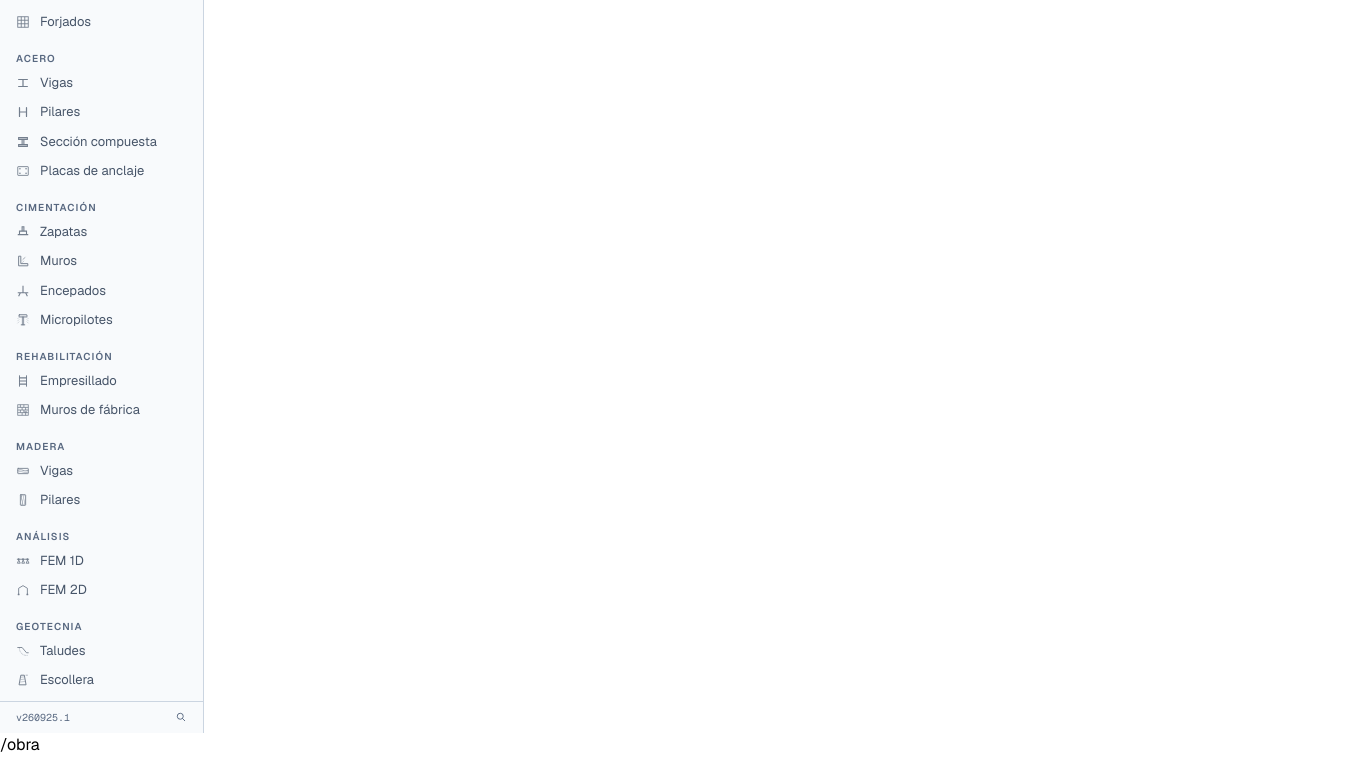
la lupa de la barra lateral › sin resultados lo dice, y el Intro no hace nada
(page scrolled)
Click the button named "Buscar un módulo" at (181, 717), box [169,705,193,729]
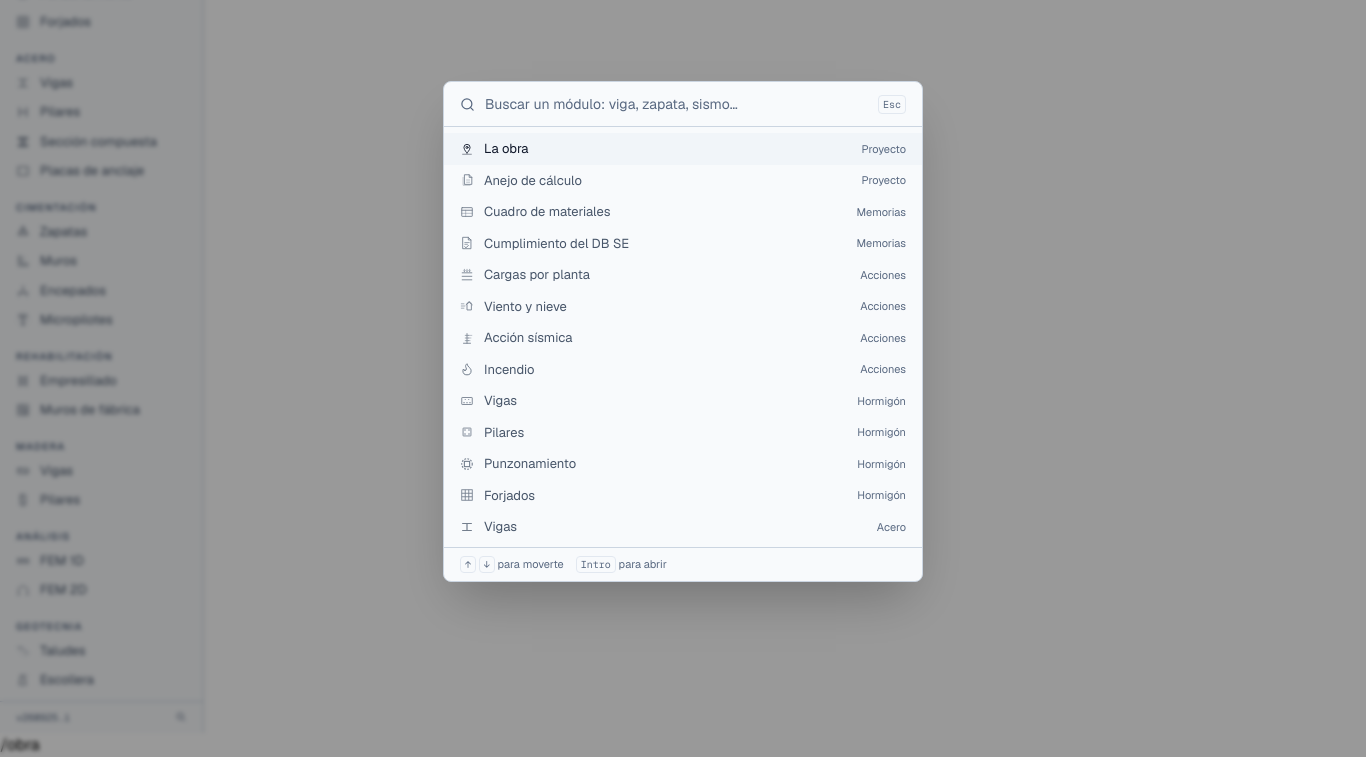
Type "xyzzy" into the dropdown at (676, 104), box [485,82,868,126]
Then press Enter
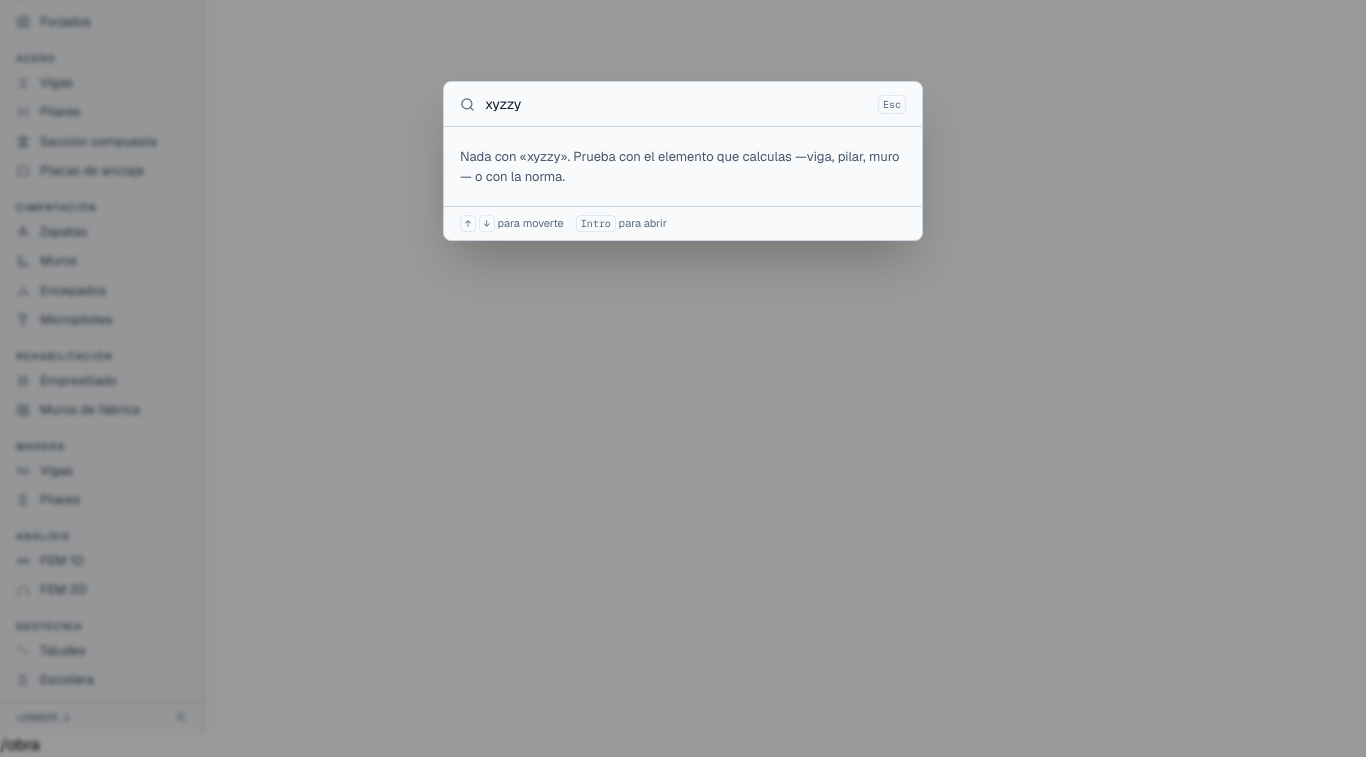
Expected: the text with test id "ruta" reads "/obra", [0,734,40,755]
Expected: the text "Nada con «xyzzy»" is shown, [460,148,900,185]
